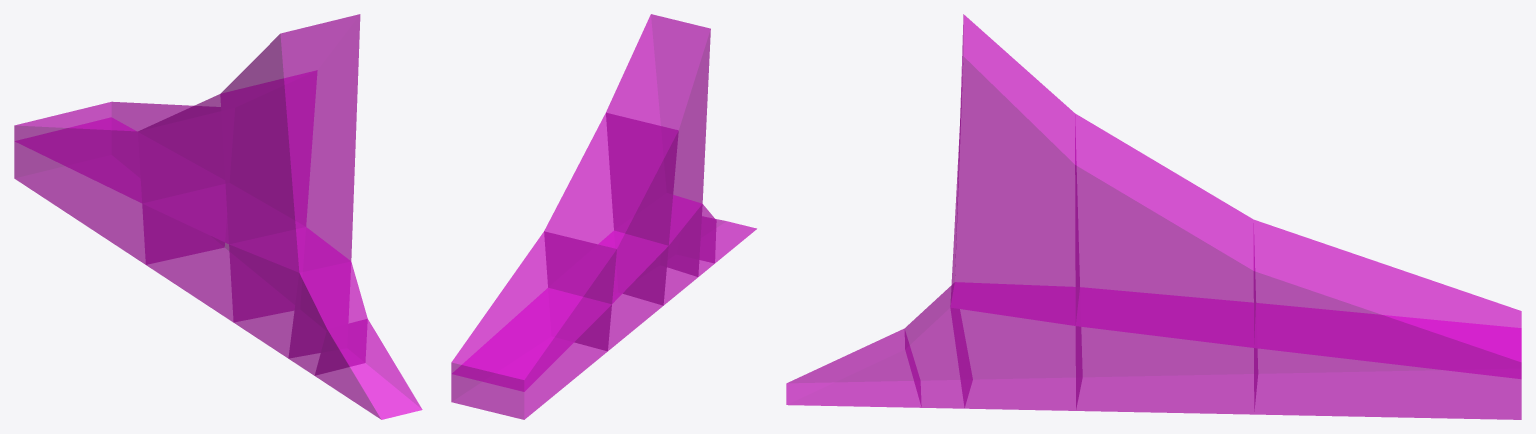
The model's file is SM_Veh_Ship_L_Ram_01_Collision.fbx.
3 renders of one model, left to right at view 1: azimuth 30°, elevation 25°; view 2: azimuth 150°, elevation 25°; view 3: azimuth 270°, elevation 25°, orthographic. The views are drawn at different scales.
Visible parts, largest first — view 1: SM_Veh_Ship_L_Ram_01_Collision; view 2: SM_Veh_Ship_L_Ram_01_Collision; view 3: SM_Veh_Ship_L_Ram_01_Collision.
Boxes of the visible parts, x1=… form: SM_Veh_Ship_L_Ram_01_Collision: x1=14, y1=14, x2=422, y2=419; SM_Veh_Ship_L_Ram_01_Collision: x1=451, y1=14, x2=756, y2=419; SM_Veh_Ship_L_Ram_01_Collision: x1=786, y1=14, x2=1521, y2=419.
Bounding box in the file's own units: 149 × 486 × 902.
